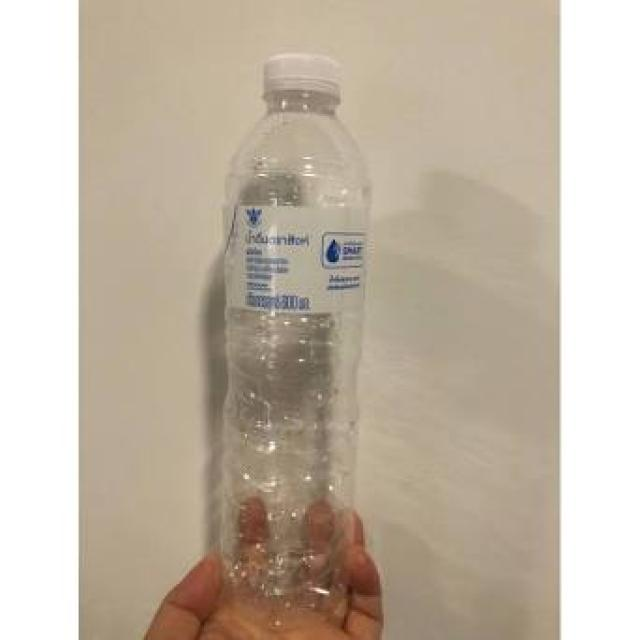plastic bottle: (203, 46, 383, 589)
